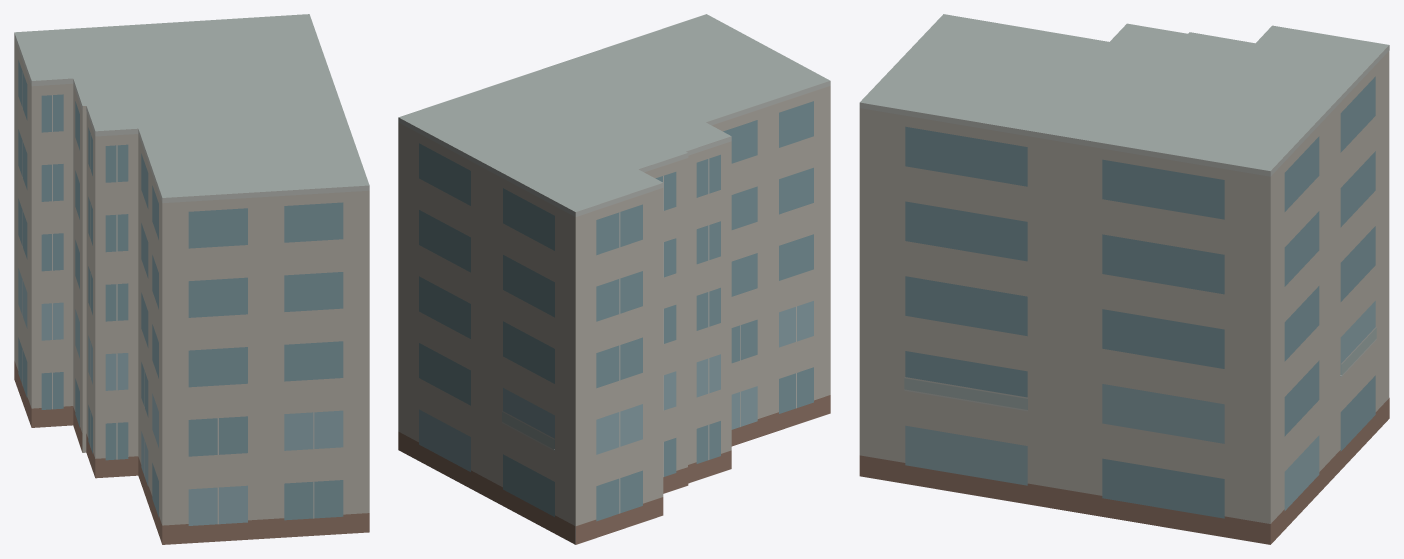
Rendered from survey-upis-32992081.glb.
3 renders of one model, left to right at view 1: azimuth 30°, elevation 25°; view 2: azimuth 150°, elevation 25°; view 3: azimuth 270°, elevation 25°, orthographic. The views are drawn at different scales.
Parts seen in each view (by area): view 1: survey-upis-32992081.tmp; view 2: survey-upis-32992081.tmp; view 3: survey-upis-32992081.tmp.
Part boxes in pixels (x1,y1,x2,y2): survey-upis-32992081.tmp: (14,14,369,544); survey-upis-32992081.tmp: (398,14,830,544); survey-upis-32992081.tmp: (859,14,1389,544).
Size of the model in its own units: 14.71 by 16.3 by 20.95.
